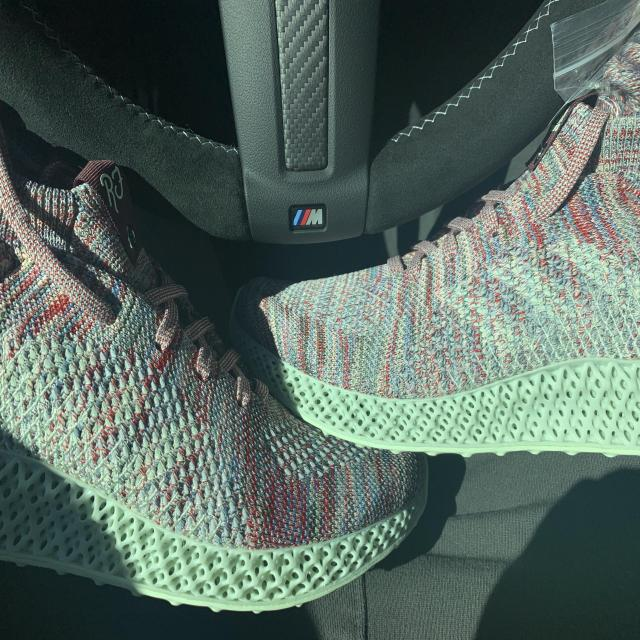shoe: (0, 144, 429, 612), (232, 46, 640, 458)
